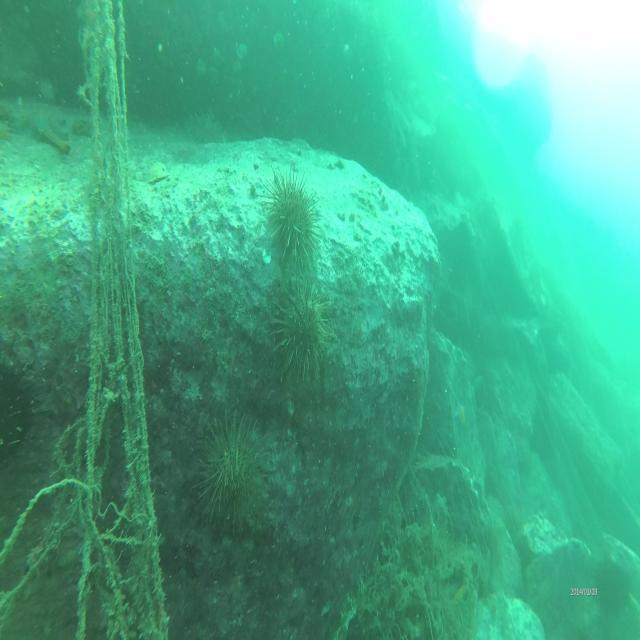echinus: (192, 410, 263, 538), (268, 271, 332, 388), (261, 164, 322, 274)
